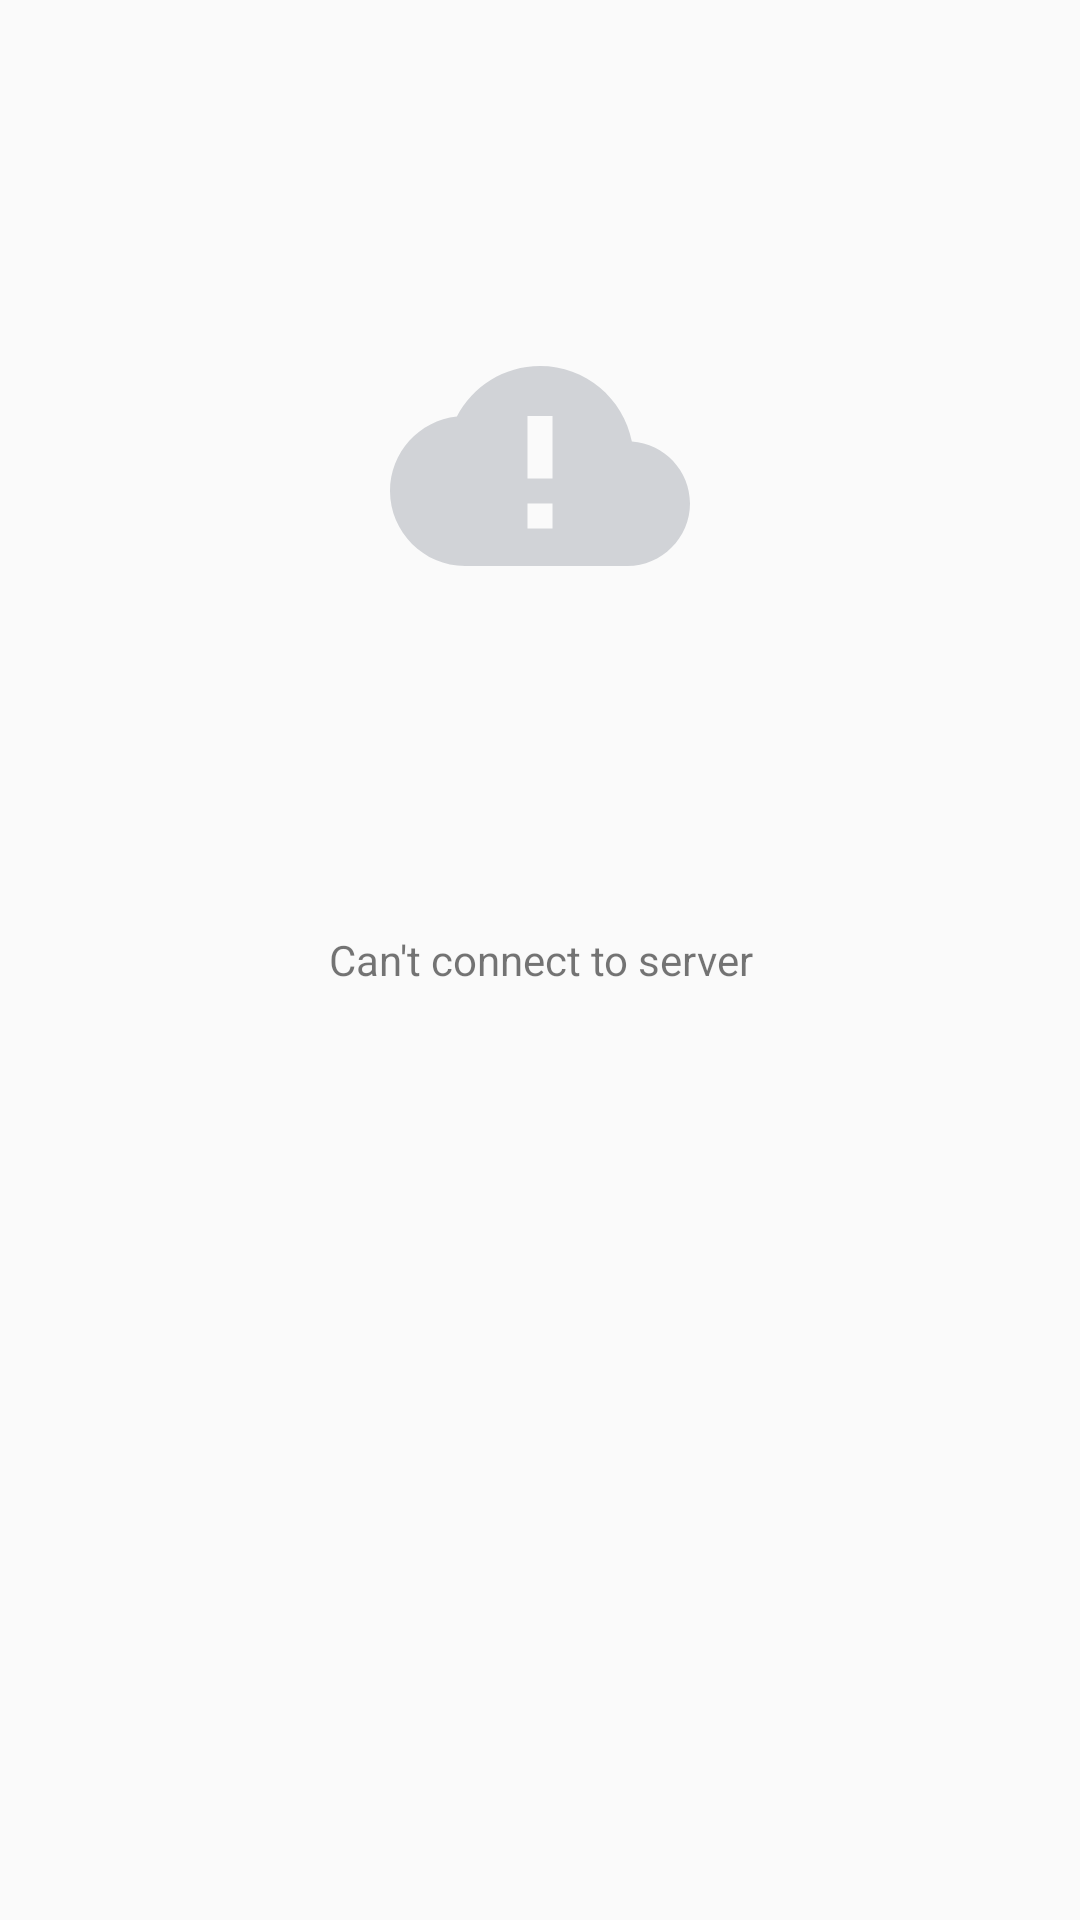

Screen size 1080×1920. Icon name, then its box in pixels as (x1, y1, x2, y2):
cloud alert: (390, 366, 690, 566)
